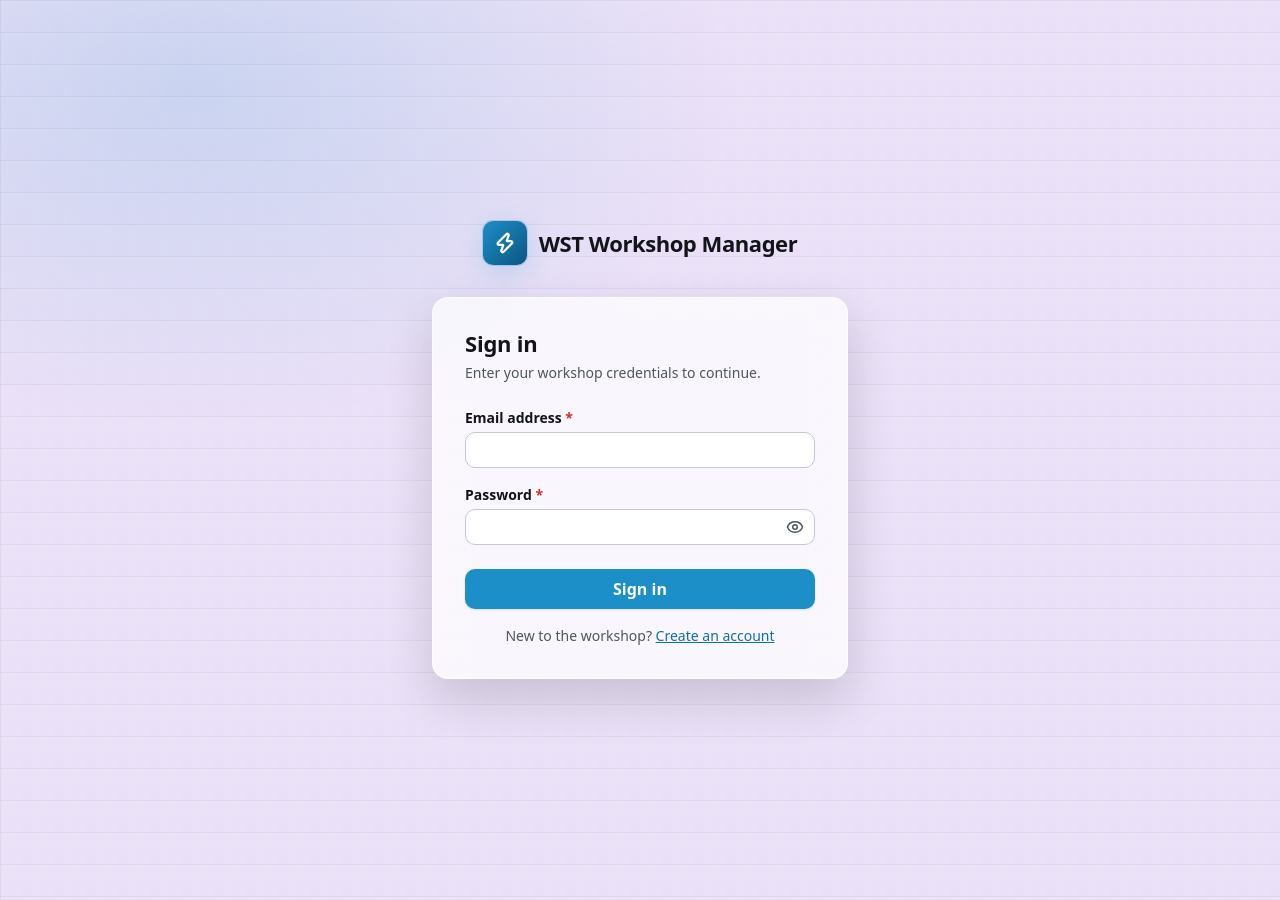
Scenario: LoginPage › shows a friendly error, without leaking internals, when credentials are rejected
The image size is (1280, 900).
Type "advisor@example.edu" into the field labelled "Email address *" at (640, 450), box 465,432 -> 815,468
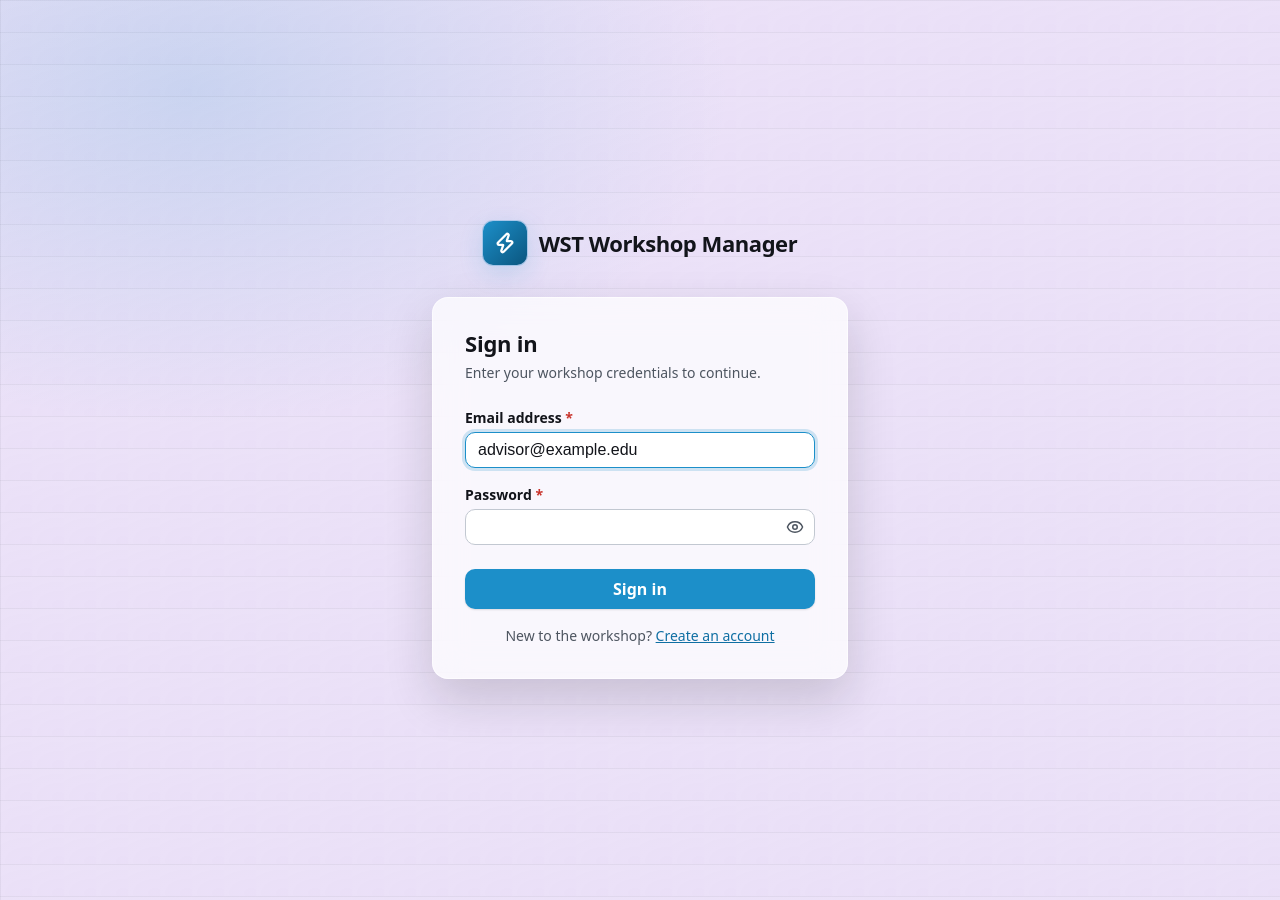
Type "wrong-password" into the password field labelled "Password *" at (640, 527), box 465,509 -> 815,545
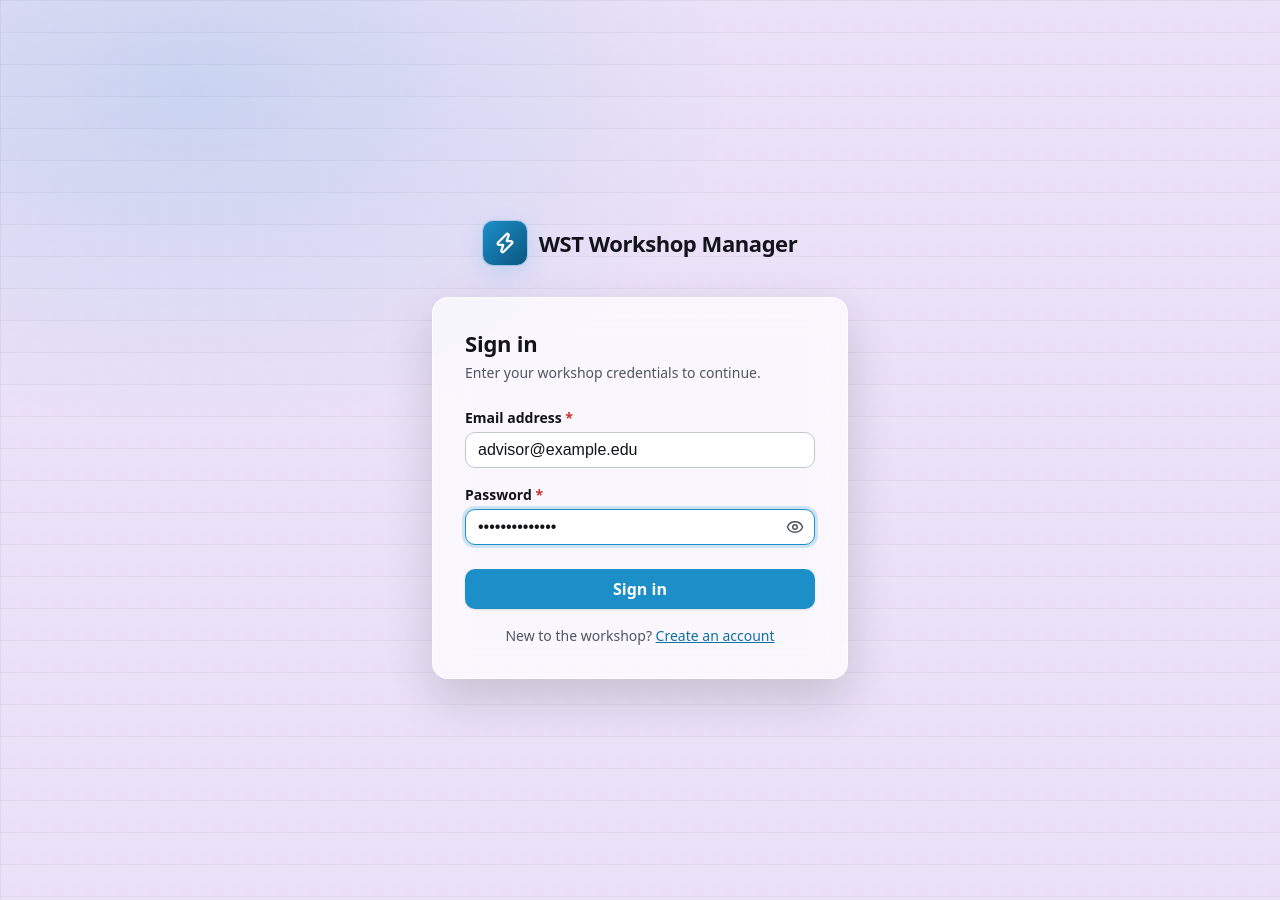
Click the button "Sign in" at (640, 589), box 465,569 -> 815,609
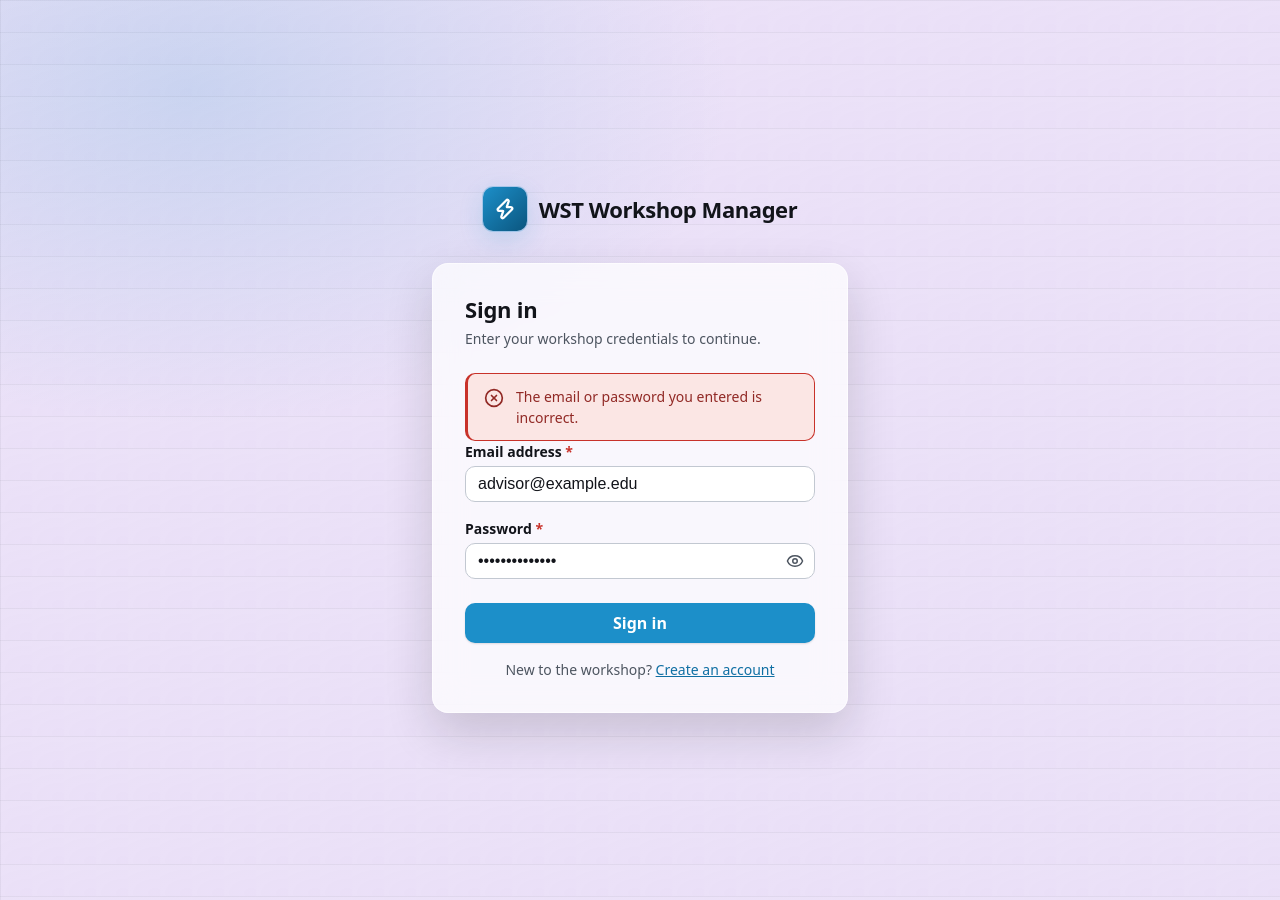
expect the message shows "incorrect": met, box 516,387 -> 762,427
